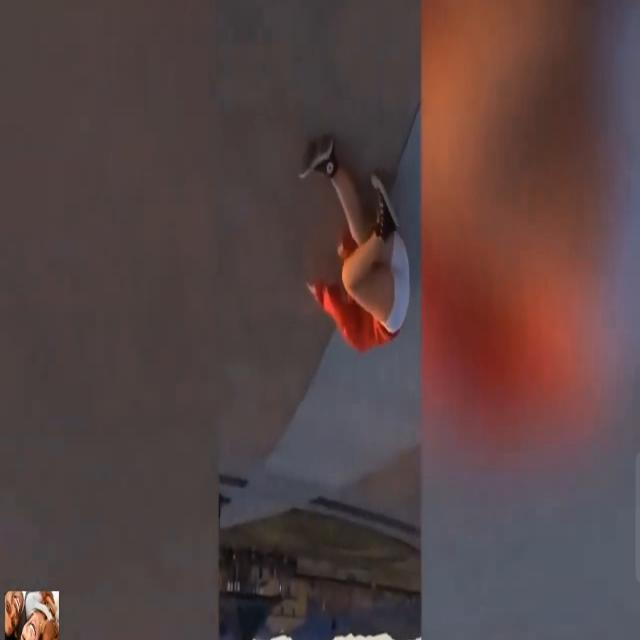fall: (294, 128, 408, 352)
